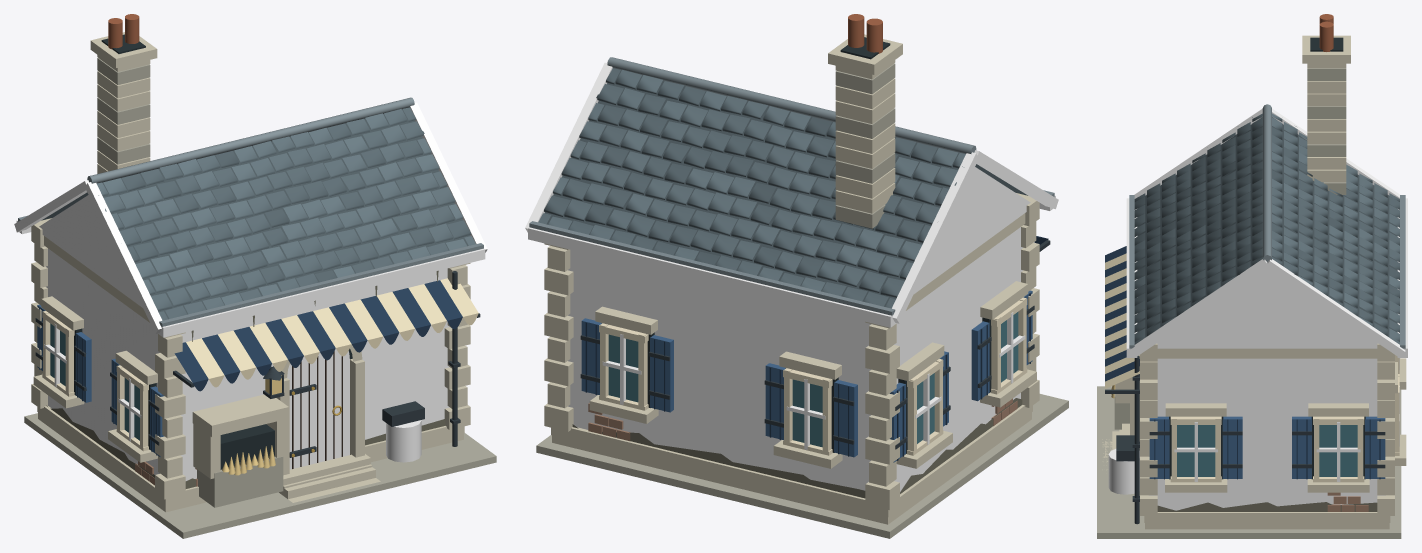
Rendered from forge.glb.
The picture shows the model from 3 angles, left to right: view 1: azimuth 30°, elevation 25°; view 2: azimuth 150°, elevation 25°; view 3: azimuth 270°, elevation 25°; orthographic projection. The views are drawn at different scales.
Visible parts, largest first — view 1: SourceMesh_00056, SourceMesh_00005, SourceMesh_00047, SourceMesh_00000, SourceMesh_00096, SourceMesh_00050, SourceMesh_00048, SourceMesh_00253, SourceMesh_00006, SourceMesh_00257, SourceMesh_00049, SourceMesh_00052 (+47 smaller); view 2: SourceMesh_00056, SourceMesh_00005, SourceMesh_00044, SourceMesh_00000, SourceMesh_00006, SourceMesh_00050, SourceMesh_00045, SourceMesh_00001, SourceMesh_00046, SourceMesh_00051, SourceMesh_00054, SourceMesh_00310 (+42 smaller); view 3: SourceMesh_00056, SourceMesh_00005, SourceMesh_00053, SourceMesh_00000, SourceMesh_00047, SourceMesh_00044, SourceMesh_00006, SourceMesh_00007, SourceMesh_00054, SourceMesh_00055, SourceMesh_00128, SourceMesh_00168 (+41 smaller).
Part boxes in pixels (<box>): SourceMesh_00056: <box>97,107,475,320</box>; SourceMesh_00005: <box>46,248,449,480</box>; SourceMesh_00047: <box>102,109,469,319</box>; SourceMesh_00000: <box>24,413,496,538</box>; SourceMesh_00096: <box>287,348,349,469</box>; SourceMesh_00050: <box>39,195,142,307</box>; SourceMesh_00048: <box>158,248,485,337</box>; SourceMesh_00253: <box>197,456,283,507</box>; SourceMesh_00006: <box>37,405,464,505</box>; SourceMesh_00257: <box>192,394,288,436</box>; SourceMesh_00049: <box>159,243,483,326</box>; SourceMesh_00052: <box>85,182,162,333</box>; SourceMesh_00056: <box>538,68,965,308</box>; SourceMesh_00005: <box>568,227,1022,491</box>; SourceMesh_00044: <box>544,70,959,306</box>; SourceMesh_00000: <box>536,394,1068,538</box>; SourceMesh_00006: <box>551,405,1032,517</box>; SourceMesh_00050: <box>914,167,1030,293</box>; SourceMesh_00045: <box>528,227,896,327</box>; SourceMesh_00001: <box>552,412,1031,524</box>; SourceMesh_00046: <box>529,221,895,315</box>; SourceMesh_00051: <box>892,152,978,323</box>; SourceMesh_00054: <box>525,62,612,232</box>; SourceMesh_00310: <box>572,424,865,498</box>; SourceMesh_00056: <box>1134,113,1399,344</box>; SourceMesh_00005: <box>1149,358,1385,510</box>; SourceMesh_00053: <box>1157,269,1377,348</box>; SourceMesh_00000: <box>1097,386,1401,538</box>; SourceMesh_00047: <box>1137,117,1262,337</box>; SourceMesh_00044: <box>1272,117,1397,337</box>; SourceMesh_00006: <box>1144,512,1390,522</box>; SourceMesh_00007: <box>1157,348,1377,358</box>; SourceMesh_00054: <box>1265,259,1405,357</box>; SourceMesh_00055: <box>1129,259,1268,357</box>; SourceMesh_00128: <box>1319,425,1357,476</box>; SourceMesh_00168: <box>1177,425,1215,476</box>.
Size of the model in its own units: 5.99 by 7.25 by 5.11.
